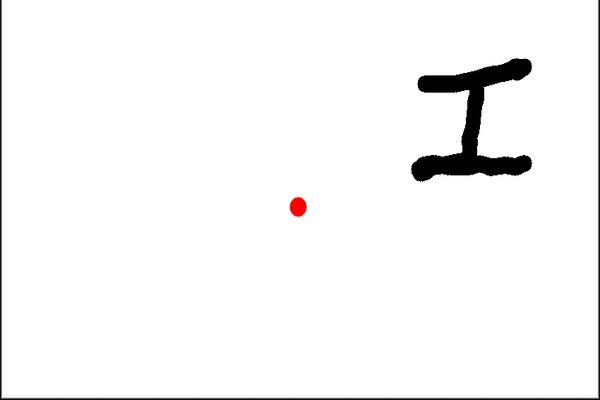i: (402, 52, 534, 182)
